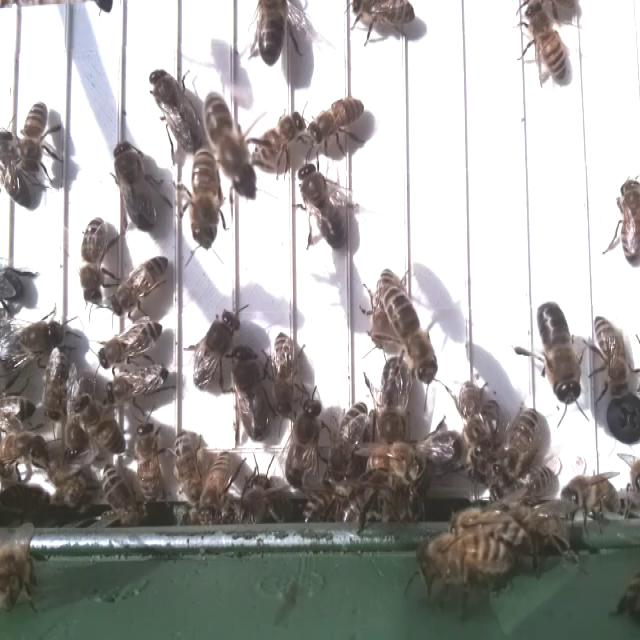Drone: (534, 296, 584, 409), (148, 59, 204, 157), (297, 159, 350, 253), (110, 135, 159, 236), (231, 341, 274, 451), (188, 308, 241, 391), (284, 394, 324, 492), (374, 354, 415, 445)
Worker: (109, 254, 174, 319), (93, 318, 165, 372), (591, 312, 632, 404), (306, 95, 369, 154), (186, 147, 222, 250), (326, 399, 369, 483), (249, 110, 303, 170), (102, 363, 173, 408), (0, 125, 33, 215), (78, 213, 108, 307), (134, 415, 164, 503), (270, 329, 297, 420), (170, 426, 201, 502), (21, 97, 50, 173), (618, 175, 640, 267)
